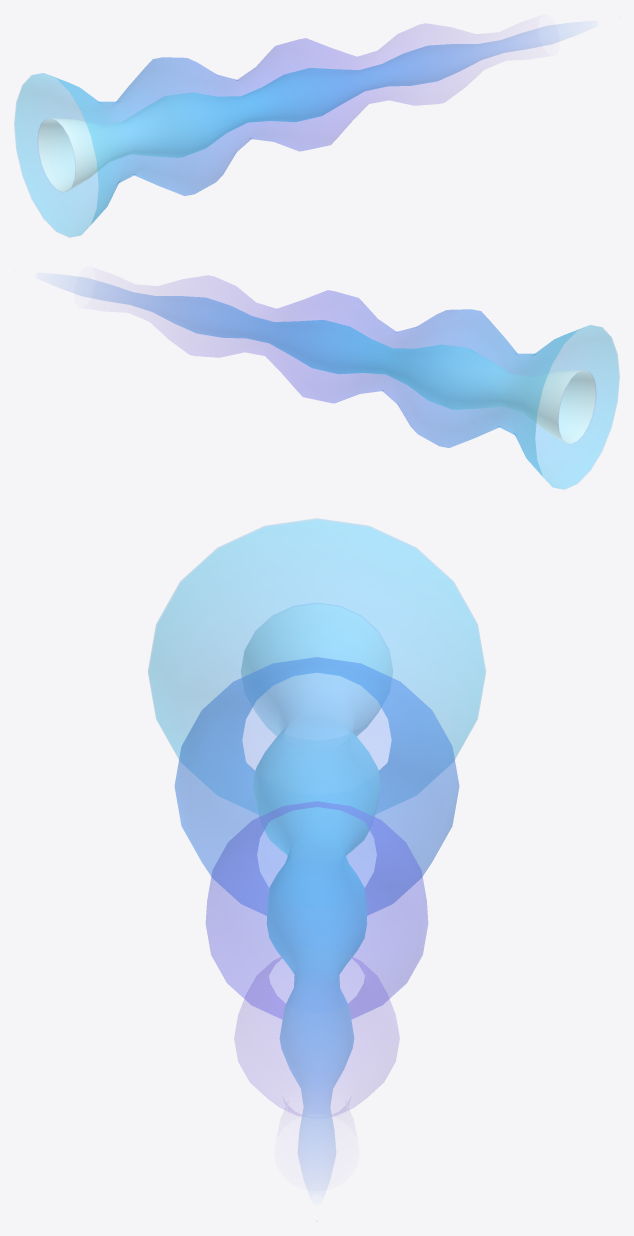
Rendered from PlasmaJet_MML.glb.
The picture shows the model from 3 angles, top to bottom: view 1: azimuth 30°, elevation 25°; view 2: azimuth 150°, elevation 25°; view 3: azimuth 270°, elevation 25°; orthographic projection. The views are drawn at different scales.
Parts seen in each view (by area): view 1: PlasmaJet; view 2: PlasmaJet; view 3: PlasmaJet.
Part boxes in pixels (box(x1,y1,x2,y2)): PlasmaJet: box(14, 24, 565, 237); PlasmaJet: box(68, 276, 619, 489); PlasmaJet: box(148, 518, 485, 1182).
Bounding box in the file's own units: 1 × 0.2602 × 0.2602.
2 materials, 2 textured.
